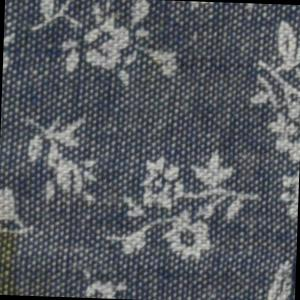Stain: (1, 216, 24, 295)
